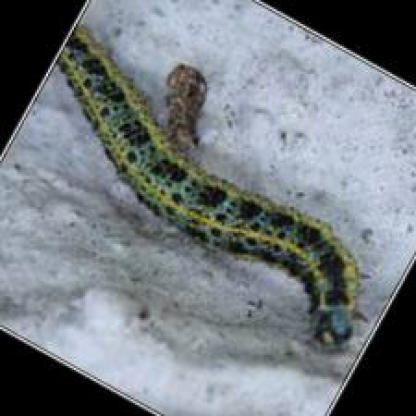pieris: (57, 26, 359, 342)
